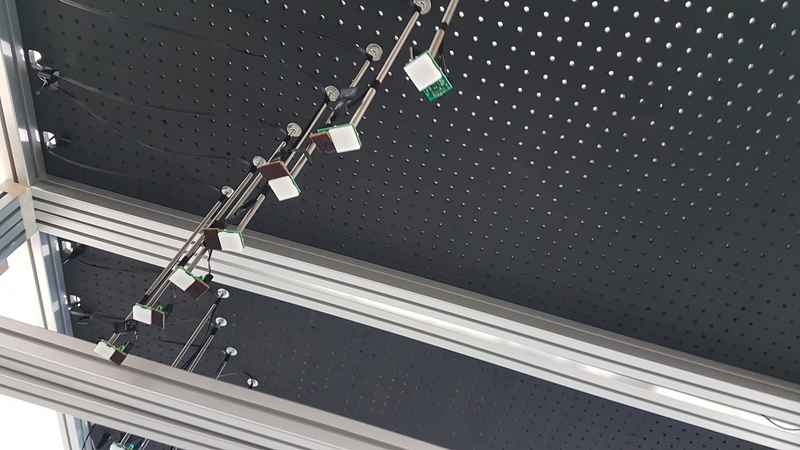target: (400, 51, 446, 94), (266, 173, 304, 208), (327, 125, 363, 156), (216, 229, 245, 255), (168, 267, 195, 293), (130, 303, 155, 327), (91, 339, 117, 361)
